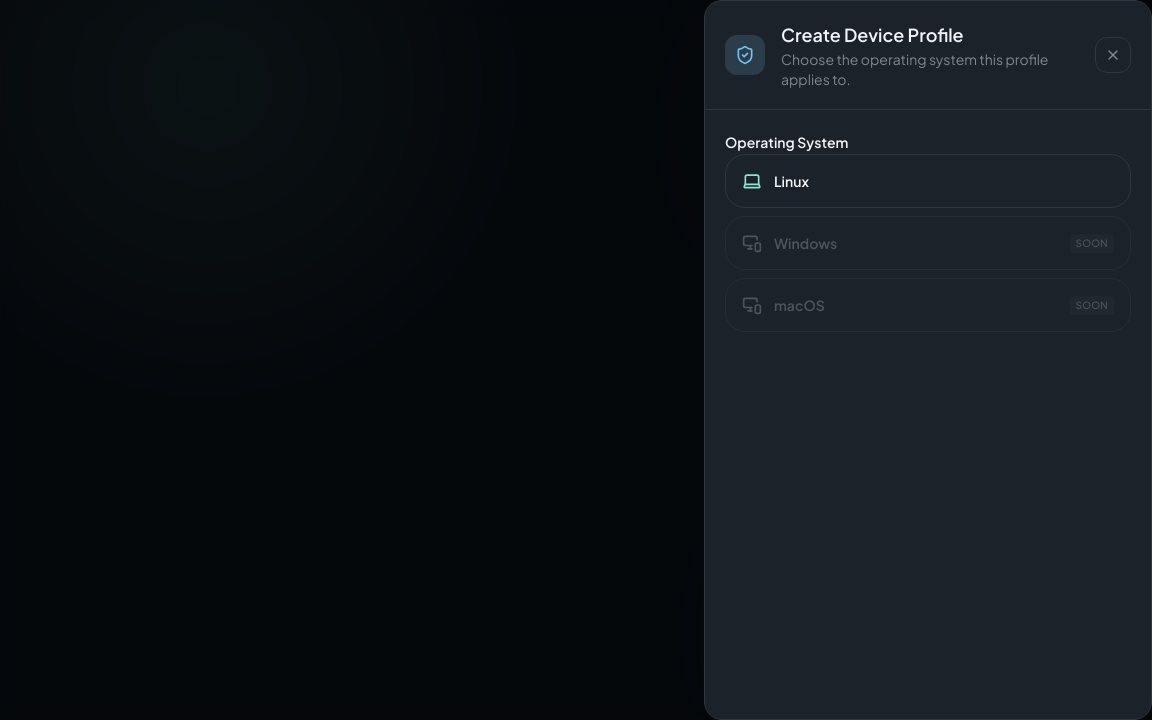
Test case: CreateDeviceProfileModal › reveals the Create Trusted Linux Profile panel after choosing Linux
The image size is (1152, 720).
Step 1. Click the button "Linux" → coordinates (791, 181), box [725, 154, 1131, 208]
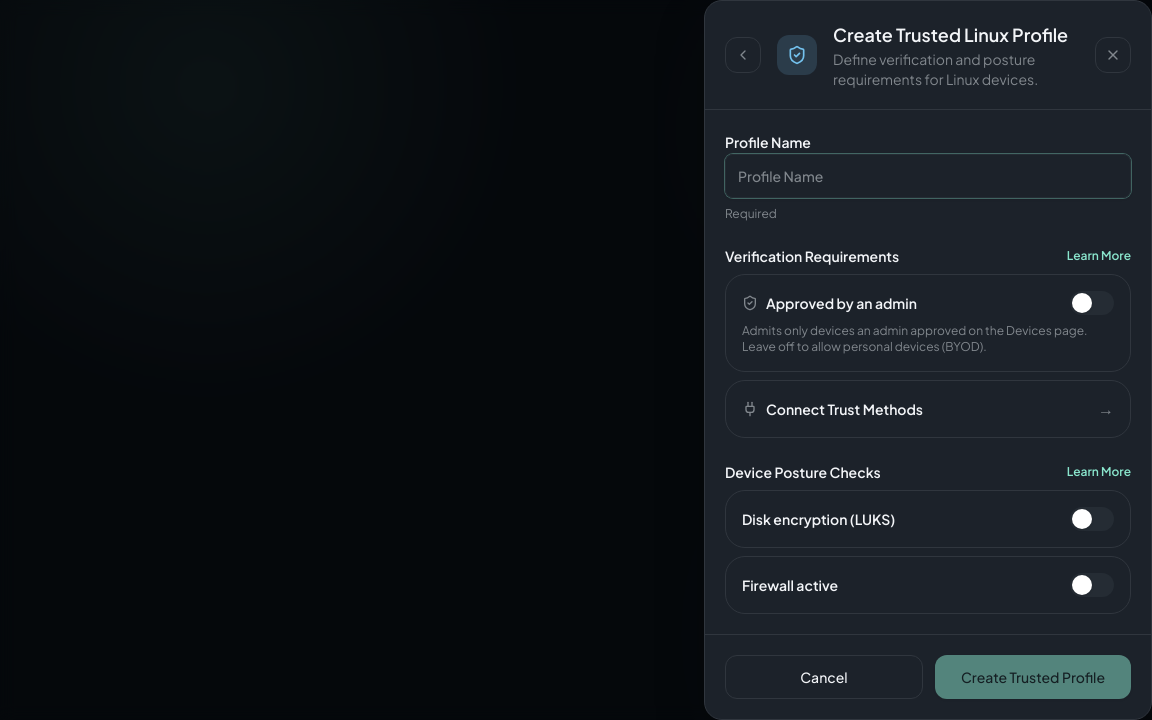
Now the heading "Create Trusted Linux Profile" is shown, box [833, 21, 1079, 49]
Now the field with placeholder "Profile Name" is shown, box [725, 154, 1131, 198]
